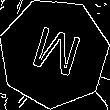M_S: (25, 22, 83, 84)
